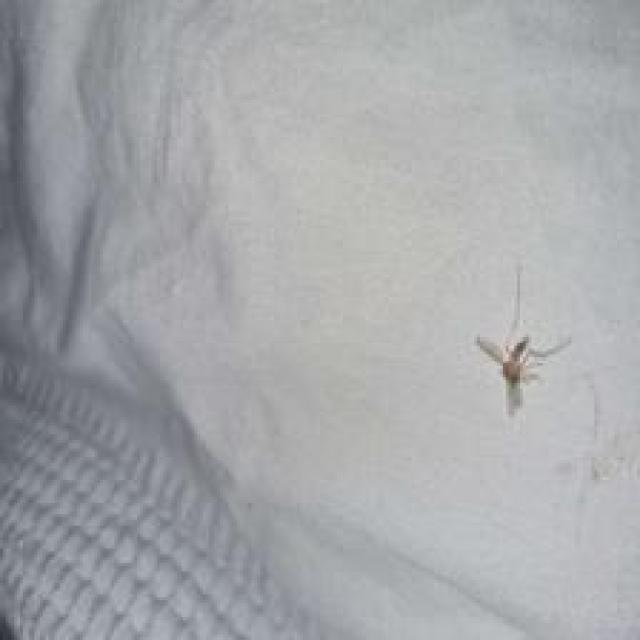Culex: (473, 264, 573, 416)
